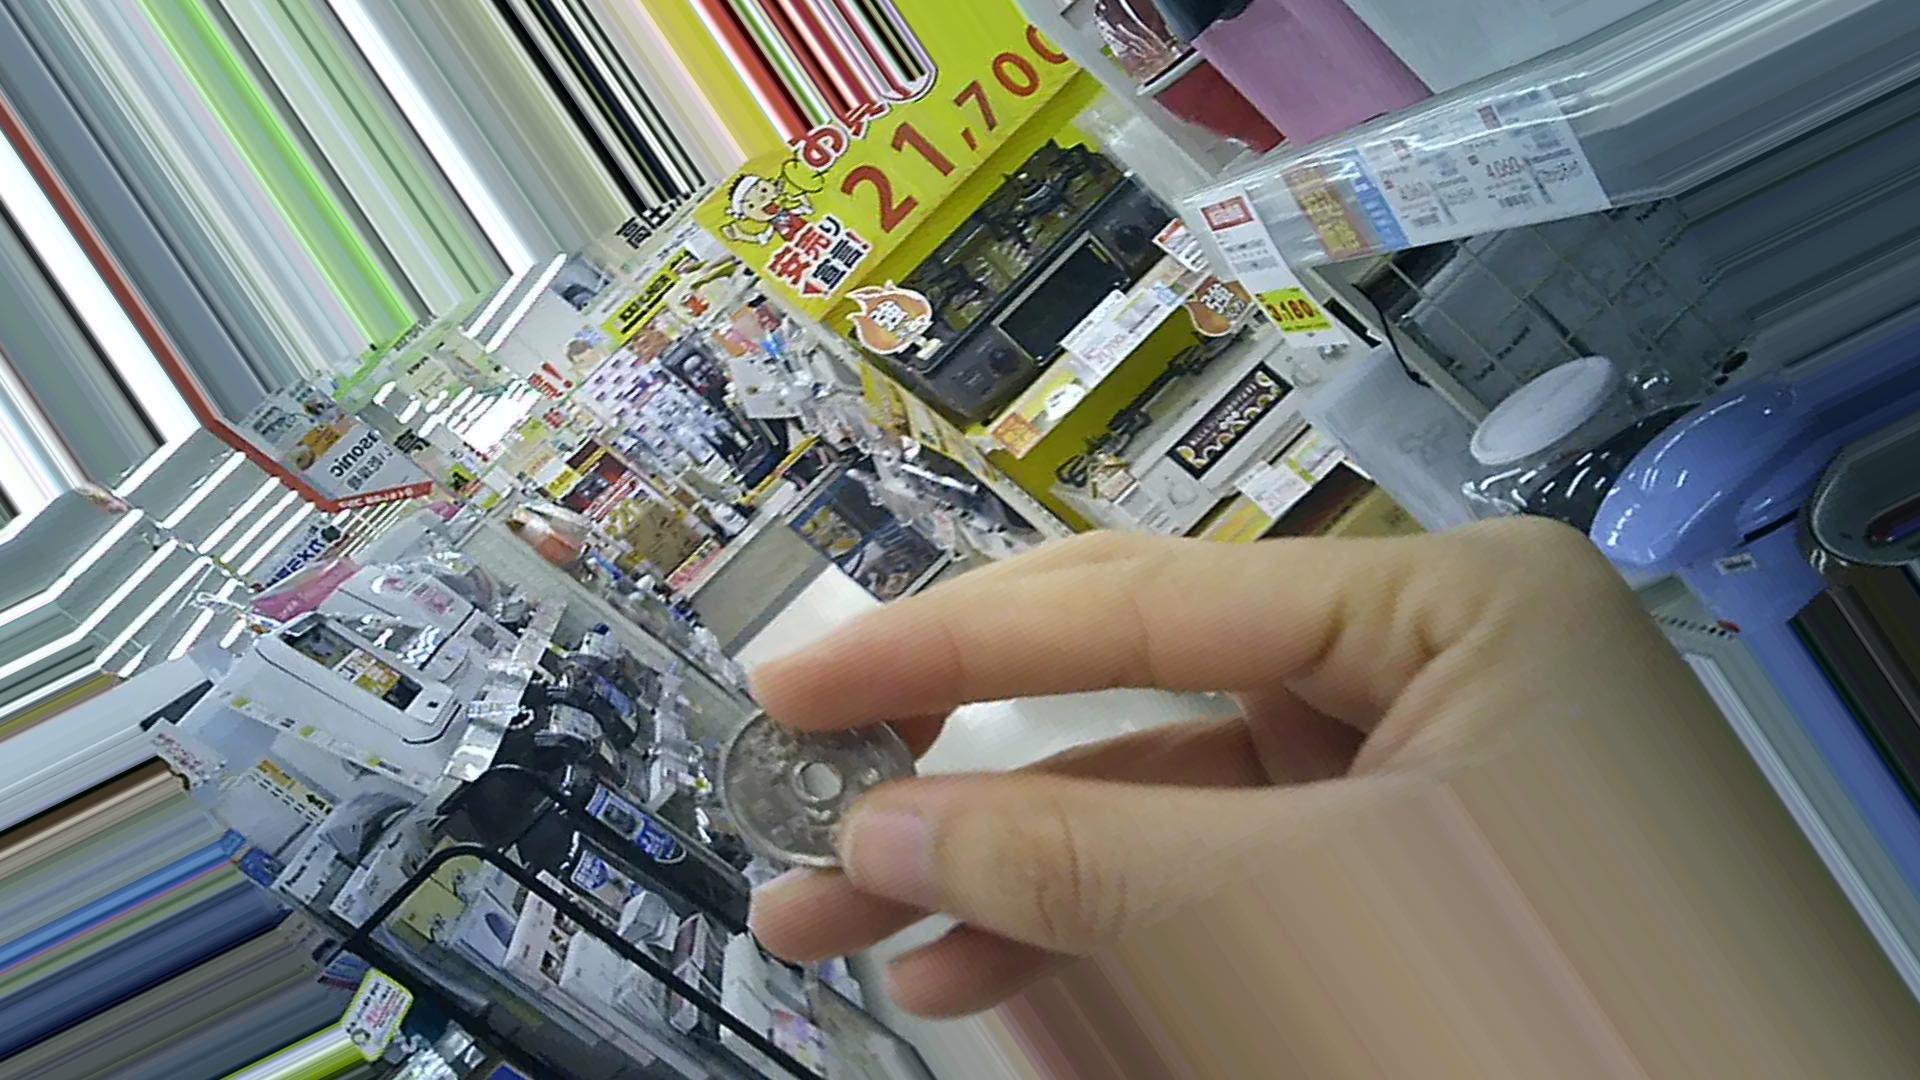50 Yen: (719, 692, 945, 884)
